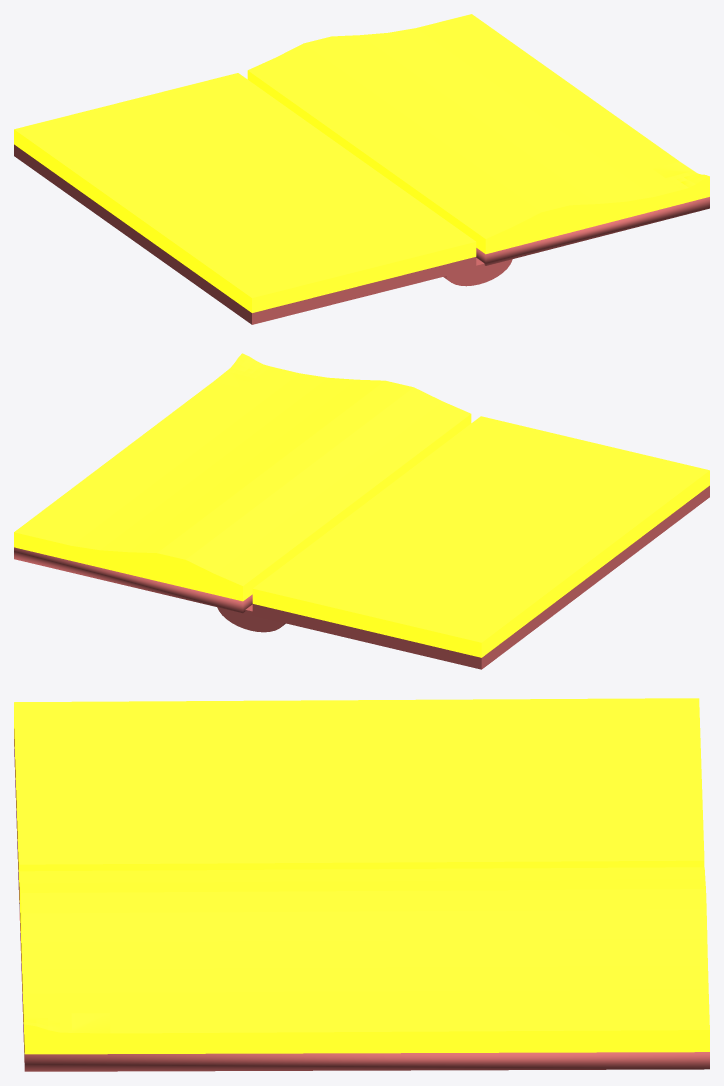
Rendered from livroaberto.fbx.
The picture shows the model from 3 angles, top to bottom: view 1: azimuth 30°, elevation 25°; view 2: azimuth 150°, elevation 25°; view 3: azimuth 270°, elevation 25°; orthographic projection. The views are drawn at different scales.
Visible parts, largest first — view 1: pag_01, pag_02, CAPA; view 2: pag_01, pag_02, CAPA; view 3: pag_02, pag_01.
Boxes of the visible parts, x1=… form: pag_01: x1=14, y1=73, x2=476, y2=324; pag_02: x1=247, y1=14, x2=709, y2=265; CAPA: x1=443, y1=258, x2=512, y2=286; pag_01: x1=252, y1=416, x2=709, y2=669; pag_02: x1=14, y1=353, x2=471, y2=613; CAPA: x1=217, y1=604, x2=285, y2=632; pag_02: x1=19, y1=867, x2=709, y2=1071; pag_01: x1=14, y1=698, x2=704, y2=903.
Bounding box in the file's own units: 201 × 23.68 × 176.
